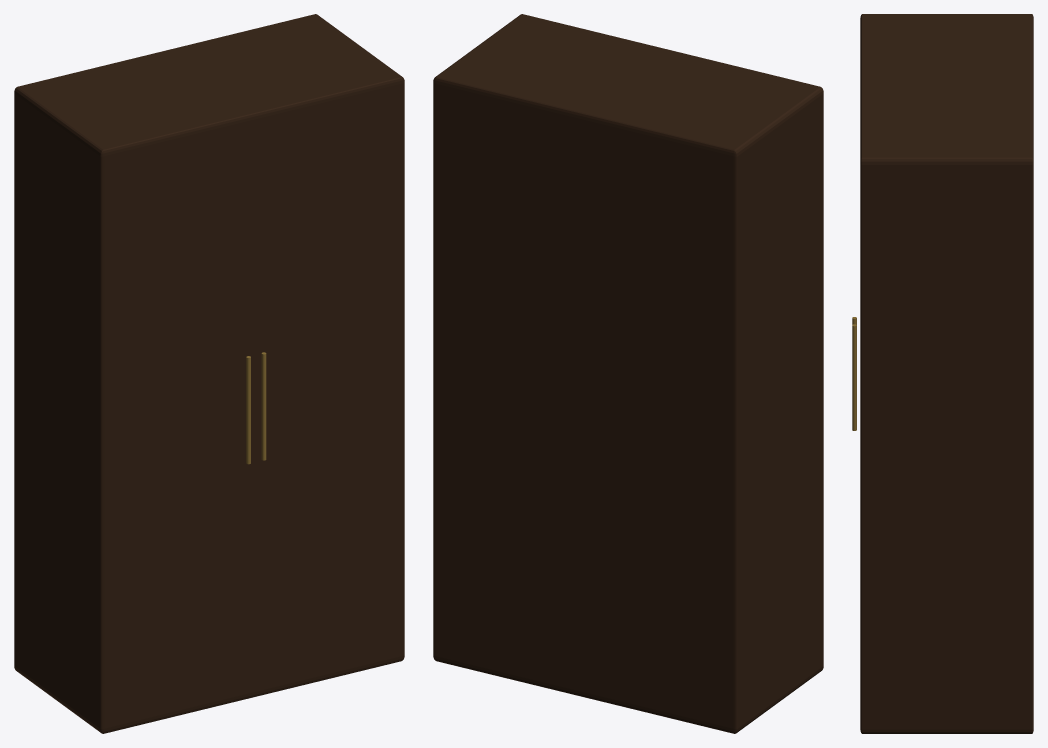
The model's file is wardrobe.glb.
The picture shows the model from 3 angles, left to right: view 1: azimuth 30°, elevation 25°; view 2: azimuth 150°, elevation 25°; view 3: azimuth 270°, elevation 25°; orthographic projection.
Parts seen in each view (by area): view 1: Cube, Cylinder.001; view 2: Cube; view 3: Cube, Cylinder.001.
Boxes of the visible parts, <box> form: Cube: <box>14,14,404,733</box>; Cylinder.001: <box>261,352,266,460</box>; Cube: <box>433,14,823,733</box>; Cube: <box>860,14,1033,733</box>; Cylinder.001: <box>852,324,856,430</box>.
Bounding box in the file's own units: 1.2 × 2.2 × 0.628.
